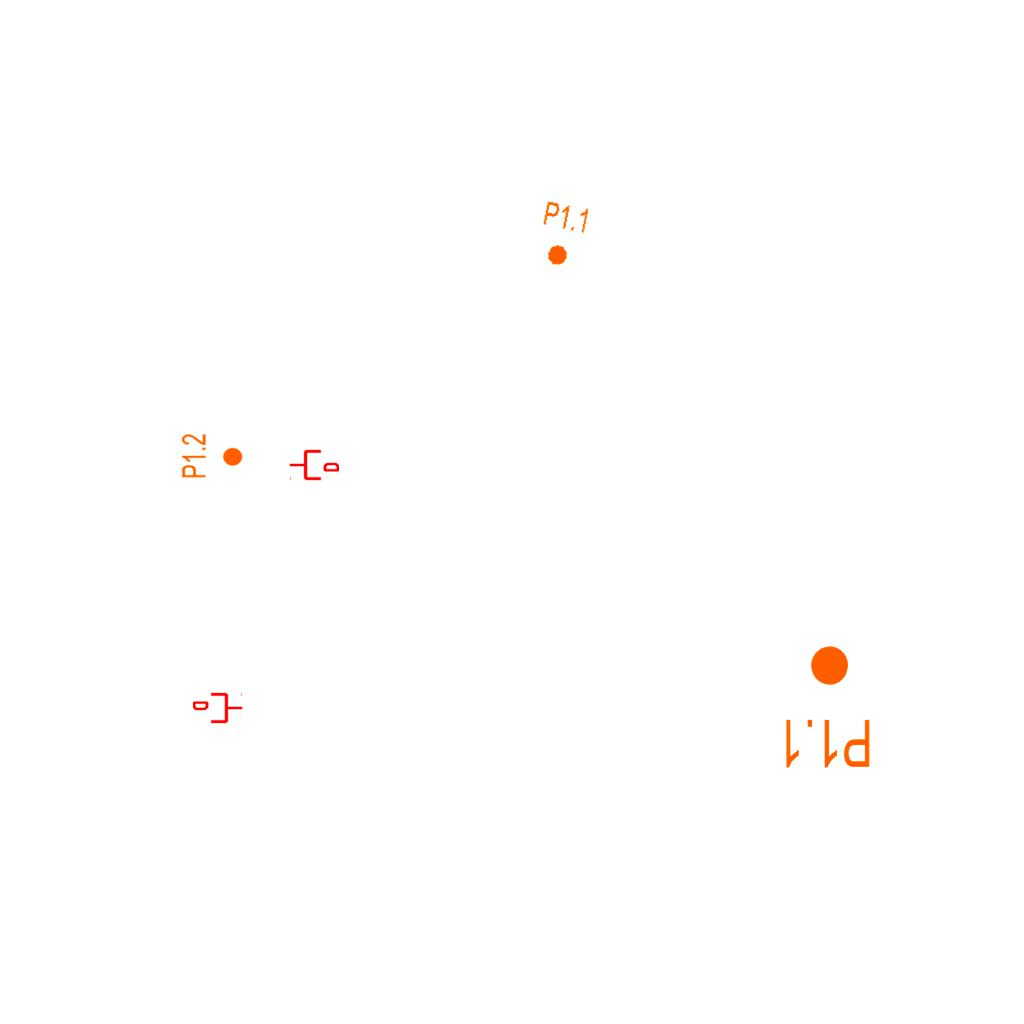Datenanschluss_einfach: (289, 448, 339, 482), (193, 691, 243, 725)
Downlight_LED_Einbauleuchten_Flur: (780, 643, 873, 771), (534, 199, 592, 271), (180, 433, 244, 479)
